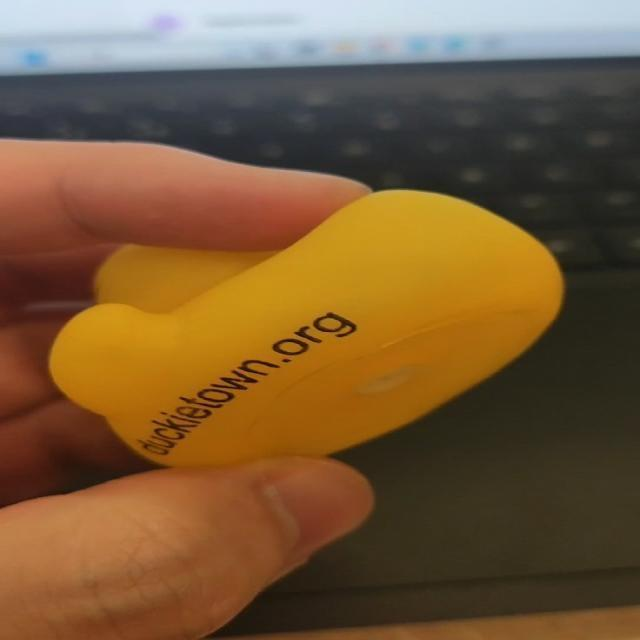rubber-duck: (49, 190, 561, 464)
